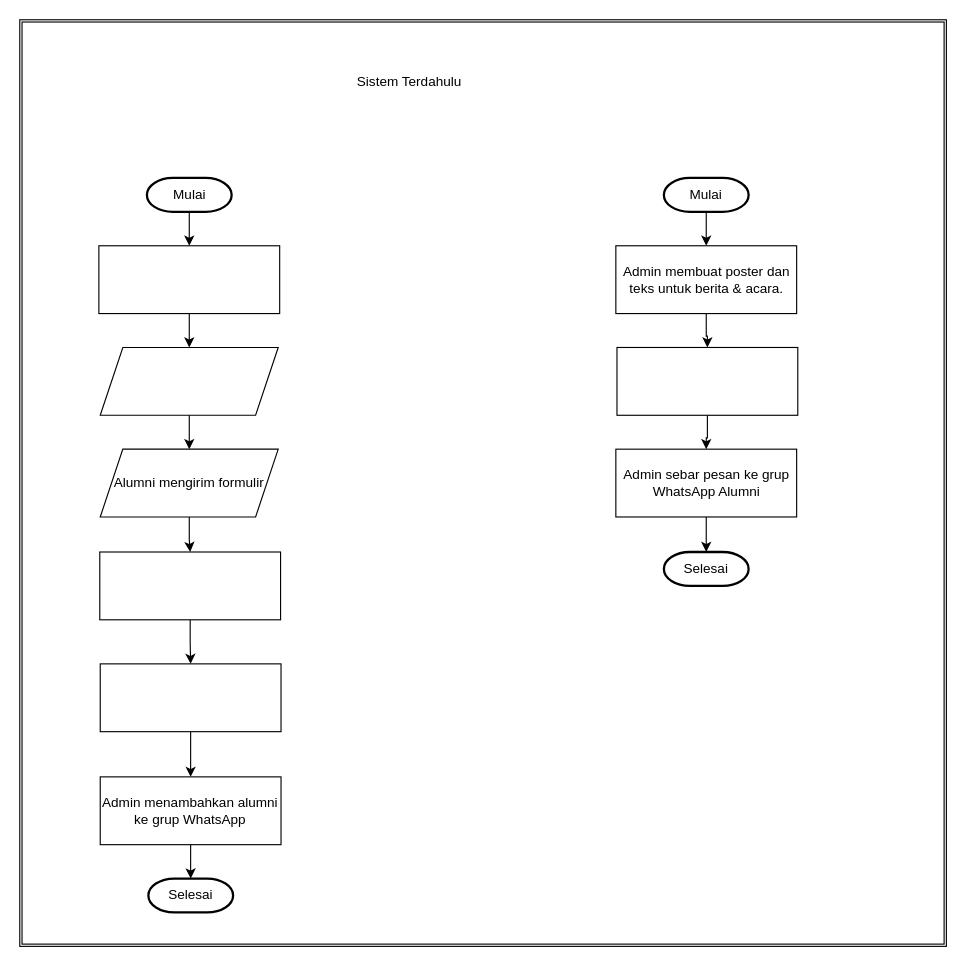
The diagram is 966 pixels wide and 966 high, and some of its shapes have lost their labels. Here are the shapes that lost their labels. From the top down, the centre of each, then its label:
At point (189, 279): "Admin membagikan link Google Form via WhatsApp".
At point (188, 380): "Alumni membuka link & mengisi form".
At point (707, 380): "Admin membuka aplikasi WhatsApp".
At point (190, 585): "Admin membuka jawaban google sheets".
At point (190, 697): "Admin rekap data ke excel".
